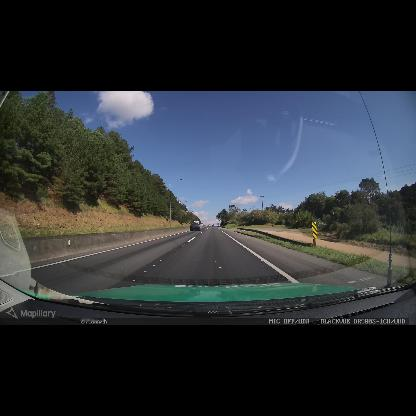O-MP: (312, 222, 317, 239)
